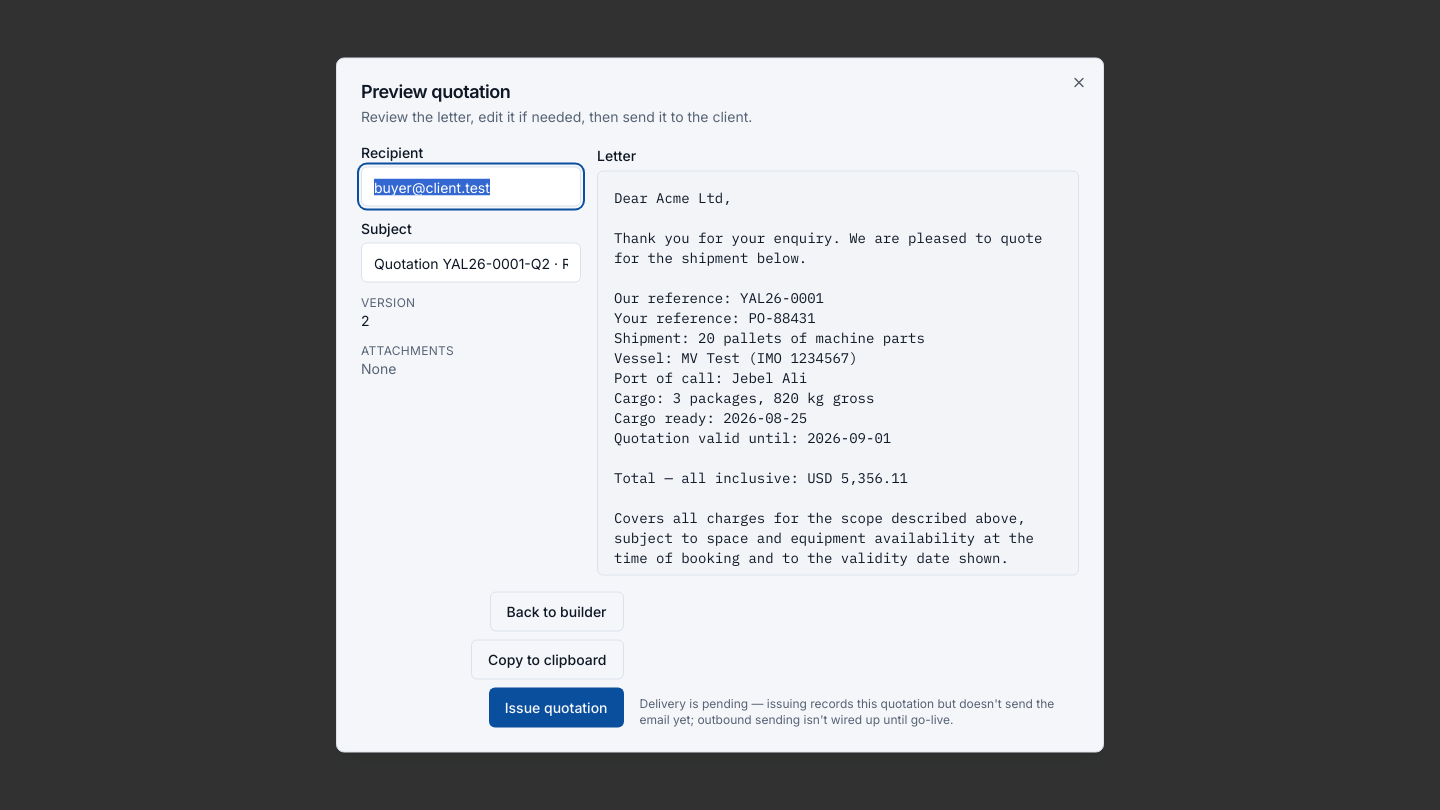
Test: QuotationPreviewDialog › shows a visible confirmation when the copy succeeds
Check: the text "copied to clipboard" is not shown
Click the button "Copy to clipboard" at {"x": 547, "y": 660}, box [471,640,624,680]
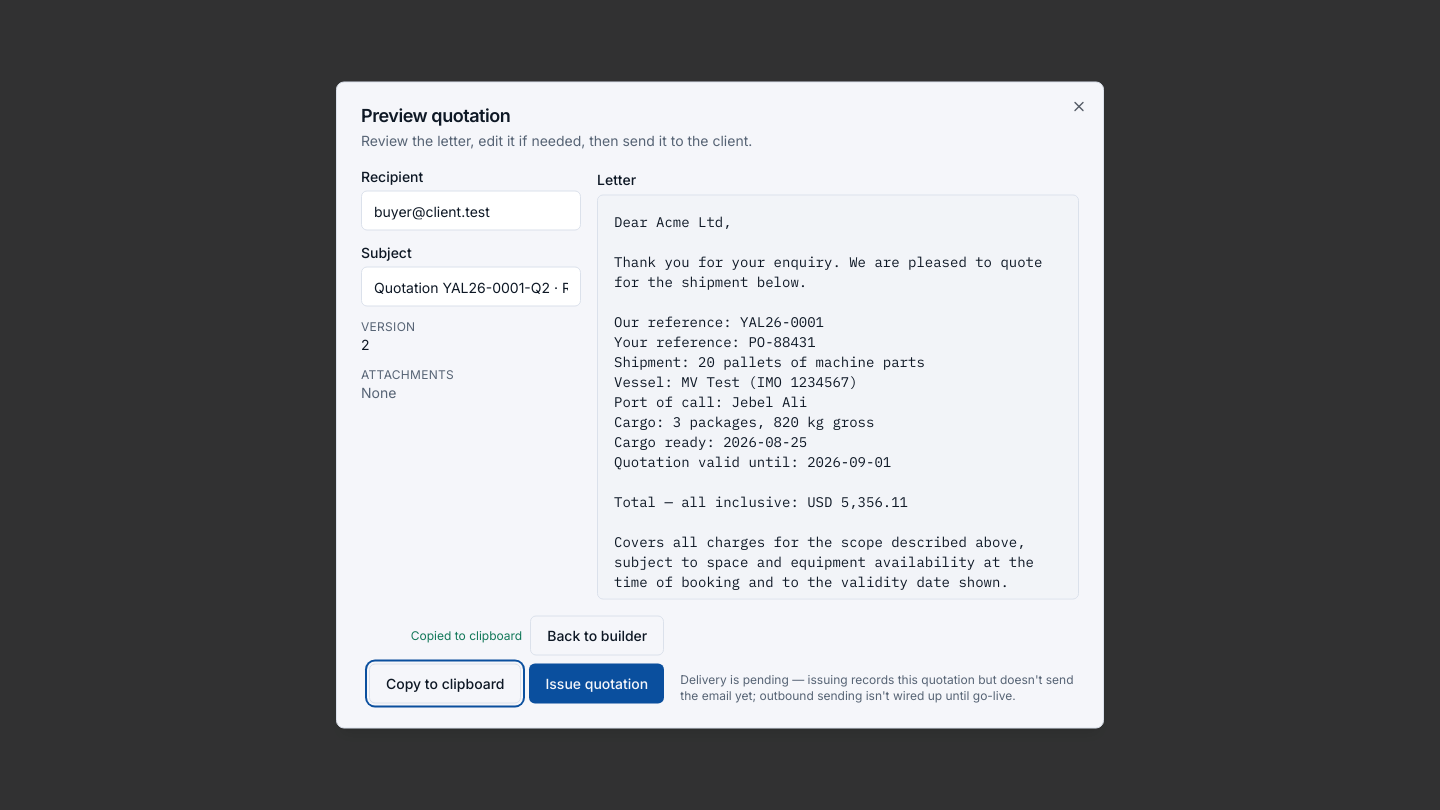
Check: the text "Copied to clipboard" is shown, box [411,628,522,644]
